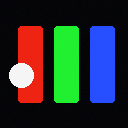2 circle: (9, 63, 33, 87)
